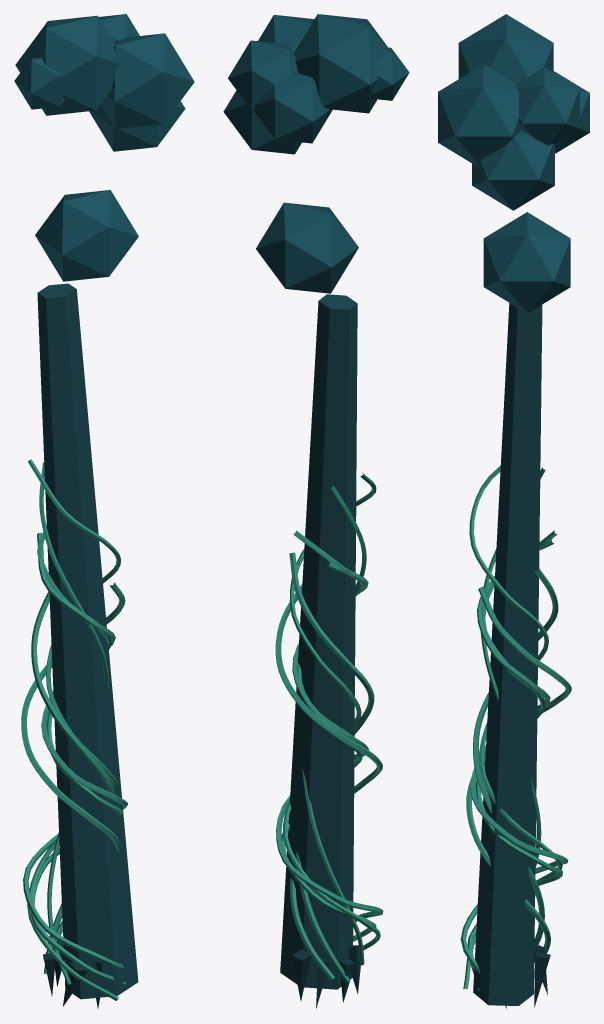
The model's file is swamp_worldTree.glb.
3 renders of one model, left to right at view 1: azimuth 30°, elevation 25°; view 2: azimuth 150°, elevation 25°; view 3: azimuth 270°, elevation 25°, orthographic.
Visible parts, largest first — view 1: world-tree-trunk, n28, n26, n16, swamp-vine-0, swamp-vine-1, n18, swamp-vine-5, swamp-vine-2, n20, swamp-vine-4, swamp-vine-3 (+1 smaller); view 2: world-tree-trunk, n26, n28, n22, n24, swamp-vine-2, swamp-vine-0, swamp-vine-3, swamp-vine-1, n18, swamp-vine-4, n20 (+3 smaller); view 3: world-tree-trunk, n28, n16, n18, n26, n24, swamp-vine-0, swamp-vine-1, swamp-vine-2, swamp-vine-3, swamp-vine-5, n22 (+2 smaller).
Boxes of the visible parts, x1,y1,x2,y2 form: world-tree-trunk: (37,283,138,999); n28: (35,190,138,281); n26: (15,15,119,115); n16: (100,33,194,128); swamp-vine-0: (23,532,127,968); swamp-vine-1: (27,459,120,1000); n18: (89,101,185,151); swamp-vine-5: (31,532,125,984); swamp-vine-2: (21,582,125,958); n20: (14,58,64,109); swamp-vine-4: (39,462,108,984); swamp-vine-3: (31,592,115,973); world-tree-trunk: (280,294,357,989); n26: (293,14,388,113); n28: (256,202,358,293); n22: (254,73,332,143); n24: (228,40,298,111); swamp-vine-2: (275,584,382,980); swamp-vine-0: (276,562,383,921); swamp-vine-3: (289,552,374,982); swamp-vine-1: (283,472,380,949); n18: (223,90,301,154); swamp-vine-4: (302,485,366,965); n20: (371,47,409,100); world-tree-trunk: (473,303,542,1005); n28: (483,212,570,313); n16: (438,64,521,165); n18: (472,131,554,210); n26: (458,14,553,83); n24: (516,67,579,145); swamp-vine-0: (460,539,568,974); swamp-vine-1: (463,466,562,989); swamp-vine-2: (466,586,571,953); swamp-vine-3: (473,567,558,946); swamp-vine-5: (467,530,562,991); n22: (553,71,589,153).
Size of the model in its own units: 13.79 by 82.17 by 11.67.
